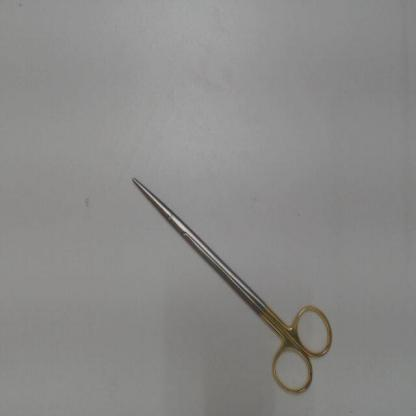7 Metzenbaum Scissors: (127, 170, 340, 400)
